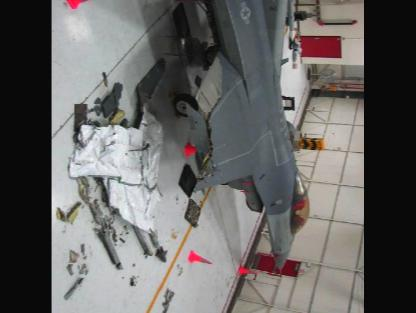F14: (137, 0, 345, 276)
